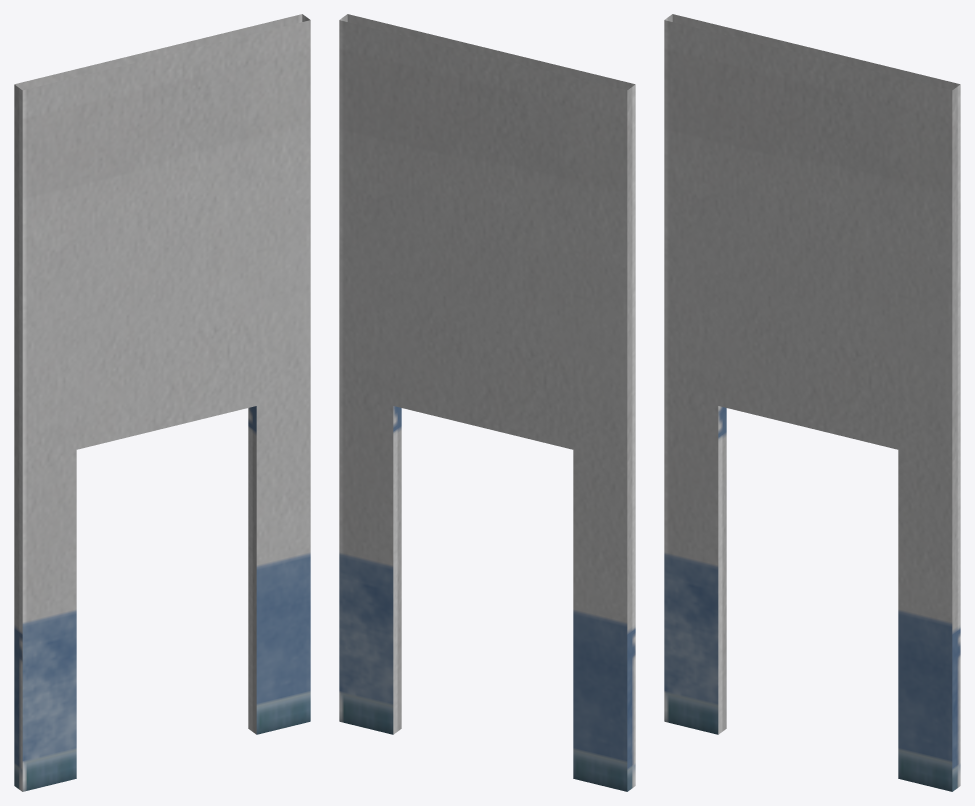
File: Wall_Tall_door.FBX
3 renders of one model, left to right at view 1: azimuth 30°, elevation 25°; view 2: azimuth 150°, elevation 25°; view 3: azimuth 330°, elevation 25°, orthographic.
Visible parts, largest first — view 1: Wall_tall_door; view 2: Wall_tall_door; view 3: Wall_tall_door.
Part boxes in pixels (<box>): Wall_tall_door: <box>14,14,310,791</box>; Wall_tall_door: <box>339,14,635,791</box>; Wall_tall_door: <box>664,14,960,791</box>.
Size of the model in its own units: 131 by 305 by 6.56.
